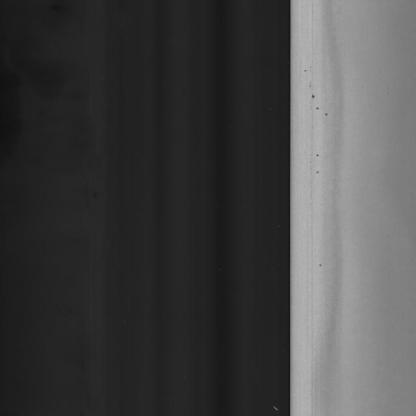inclusion: (315, 102, 330, 120), (306, 82, 318, 102), (315, 146, 321, 178)
